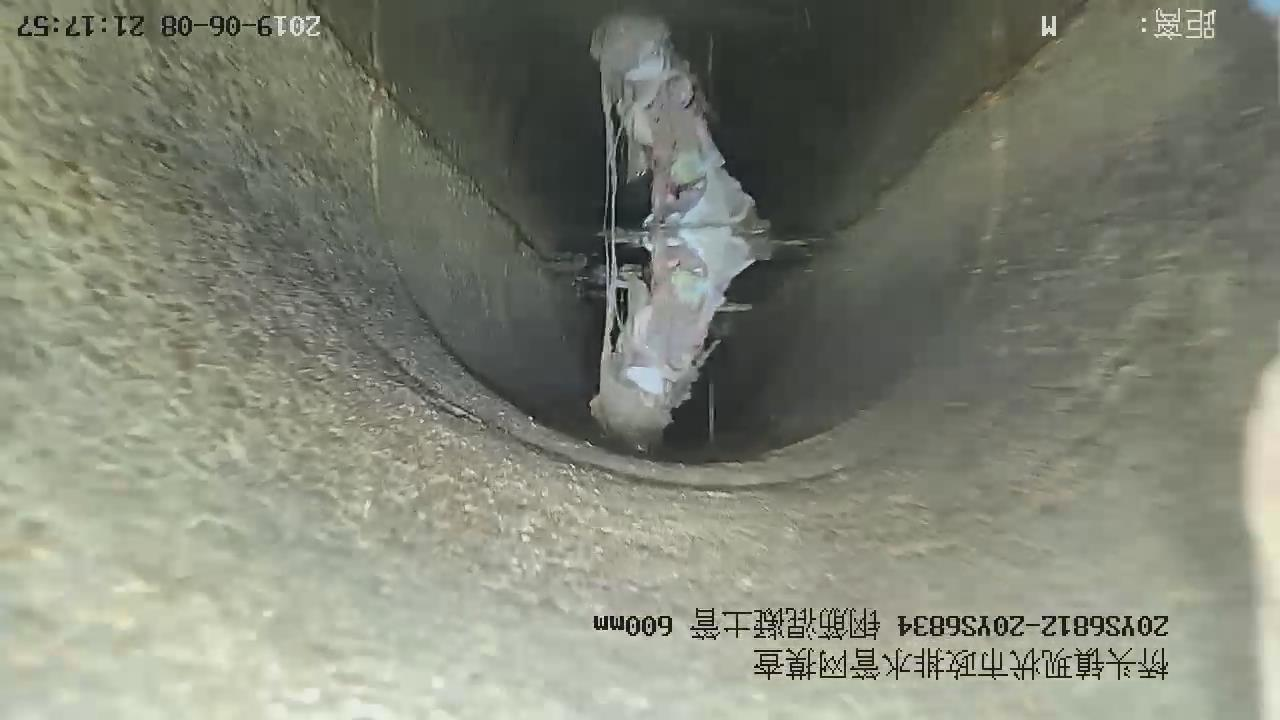YWCR: (590, 221, 771, 450)
